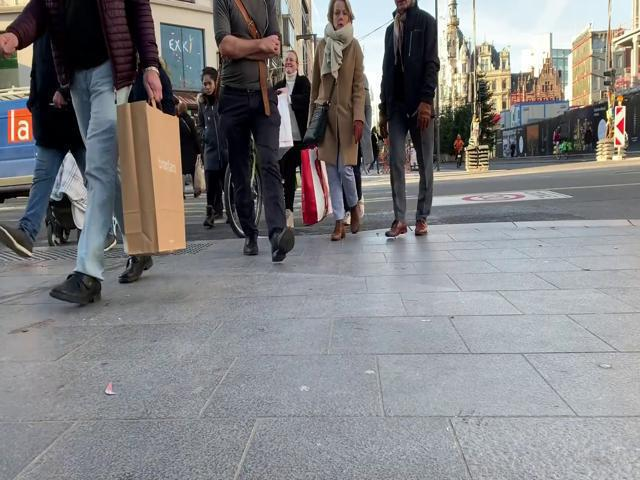shoe: (49, 272, 101, 304), (1, 224, 33, 258), (118, 256, 153, 283), (271, 226, 294, 261), (385, 220, 407, 237), (243, 235, 259, 255), (350, 204, 361, 233), (331, 221, 345, 240), (414, 220, 427, 235)
